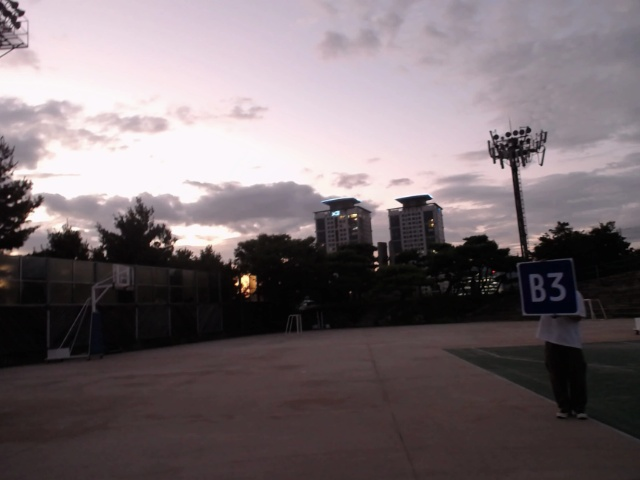delivery_b3: (517, 259, 580, 317)
